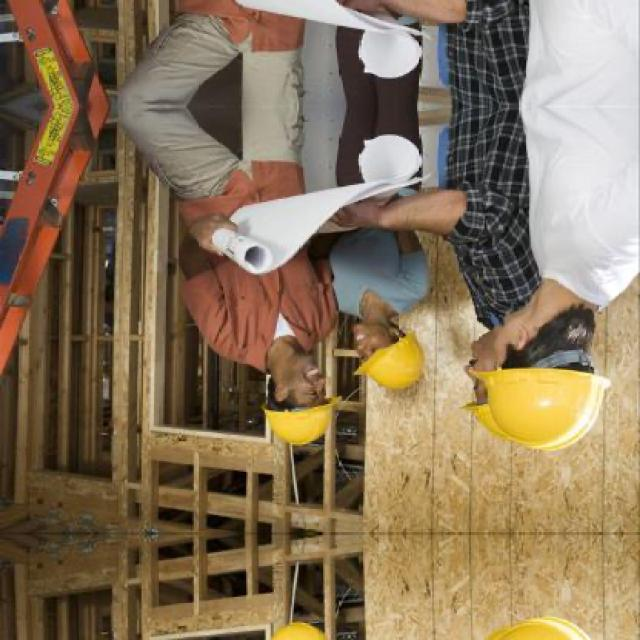con casco: (450, 307, 624, 456), (246, 352, 334, 446), (341, 312, 416, 400)
